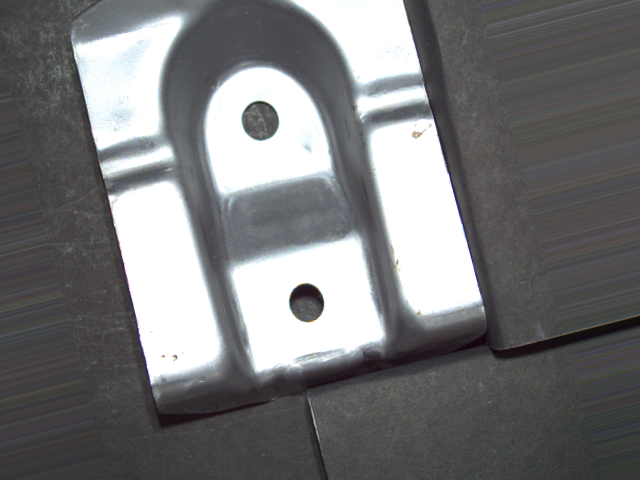defect: (234, 98, 286, 146)
